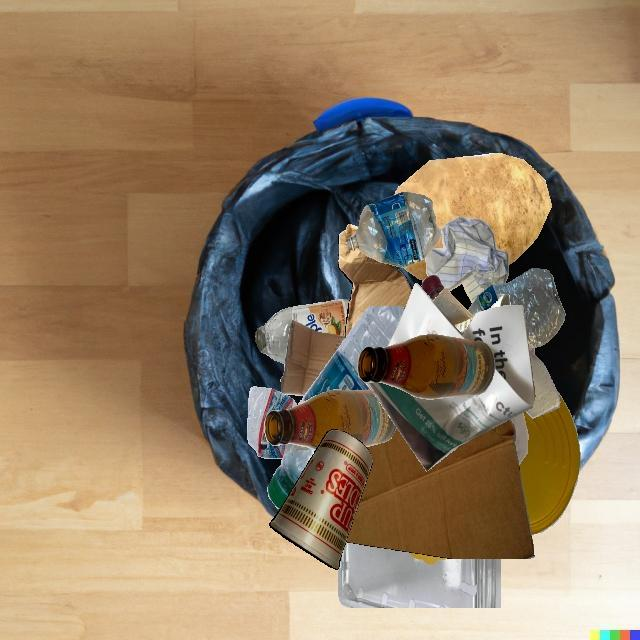biowaste: (394, 153, 552, 265)
cardboard: (347, 419, 534, 559), (338, 224, 412, 339), (280, 320, 345, 396), (462, 305, 528, 345), (525, 345, 560, 418)
glass: (357, 334, 495, 400), (264, 390, 397, 450), (255, 299, 350, 364)
paper: (364, 283, 535, 471), (425, 217, 508, 303)
plastic: (338, 538, 501, 608), (298, 306, 404, 405), (519, 391, 581, 534), (467, 268, 566, 348), (346, 192, 441, 267), (247, 386, 309, 459), (267, 448, 316, 509), (510, 412, 528, 465), (421, 275, 444, 301)
trash: (269, 429, 373, 570)
